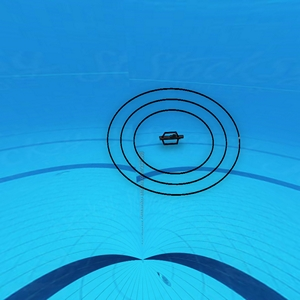circle: (101, 72, 252, 203)
submarine: (156, 132, 185, 147)
